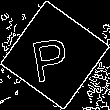P_N: (33, 27, 77, 83)
